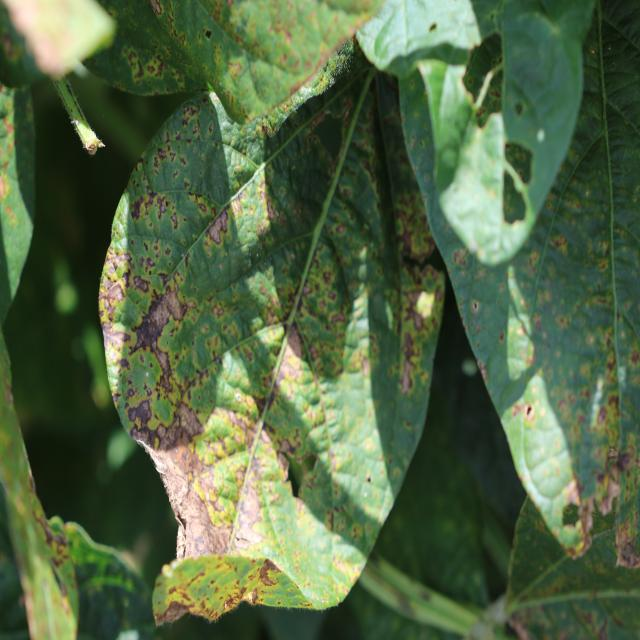Bacterial_Blight: (119, 286, 205, 437), (150, 446, 203, 551), (134, 269, 197, 350), (139, 6, 202, 72), (394, 201, 434, 267), (402, 288, 436, 343), (219, 570, 258, 614), (504, 140, 533, 195), (34, 506, 65, 547), (155, 598, 195, 628), (126, 399, 154, 427), (207, 210, 228, 245), (616, 538, 640, 568), (400, 358, 414, 395), (105, 279, 126, 303), (258, 566, 279, 588), (130, 194, 147, 221), (617, 450, 635, 472), (131, 274, 150, 293), (149, 1, 162, 16), (514, 101, 524, 116), (170, 213, 178, 229), (204, 28, 212, 40)
Soybean: (99, 68, 444, 625)
